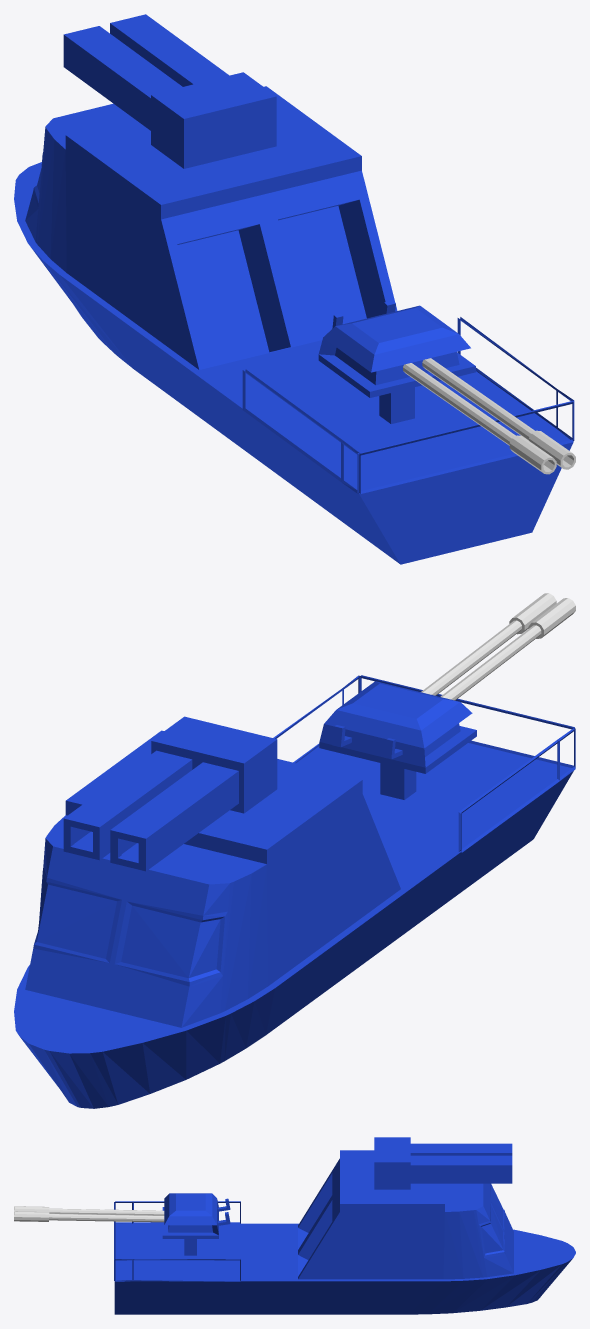
The model's file is SHIP_4.fbx.
3 renders of one model, top to bottom at view 1: azimuth 30°, elevation 25°; view 2: azimuth 150°, elevation 25°; view 3: azimuth 270°, elevation 25°, orthographic. The views are drawn at different scales.
Parts seen in each view (by area): view 1: Cylinder.001; view 2: Cylinder.001; view 3: Cylinder.001.
Part boxes in pixels (x1,y1,x2,y2): Cylinder.001: (14,14,575,564); Cylinder.001: (14,593,575,1108); Cylinder.001: (14,1137,575,1314).
Bounding box in the file's own units: 883 × 1039 × 3594.
